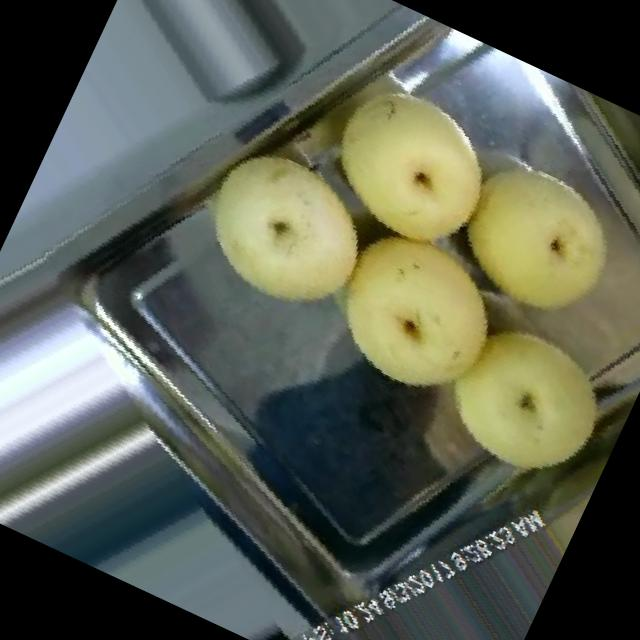Fruit: (276, 169, 560, 450), (280, 36, 544, 293), (157, 98, 417, 354), (388, 264, 640, 528), (402, 102, 640, 373)
